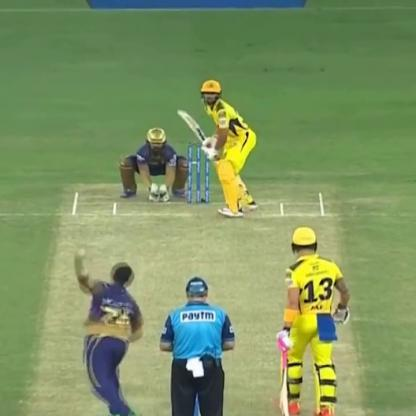ball: (73, 239, 89, 258)
bat: (171, 103, 219, 155)
pitch: (43, 182, 372, 416)
